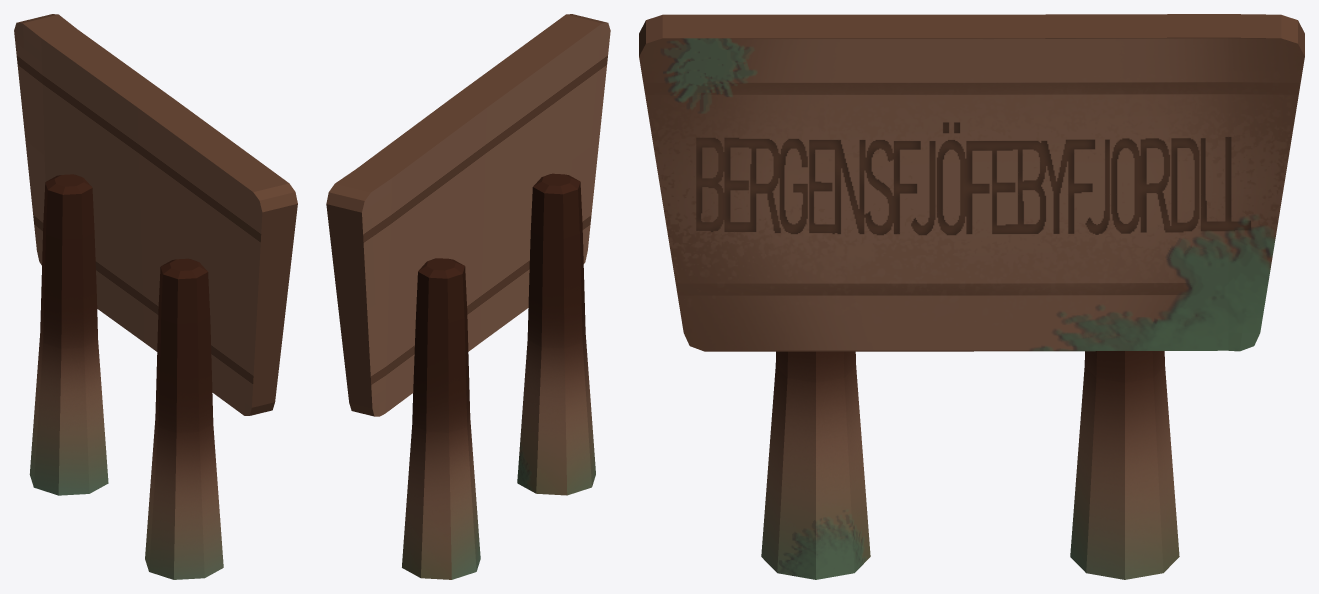
Rendered from Sign.fbx.
The picture shows the model from 3 angles, left to right: view 1: azimuth 30°, elevation 25°; view 2: azimuth 150°, elevation 25°; view 3: azimuth 270°, elevation 25°; orthographic projection. The views are drawn at different scales.
Visible parts, largest first — view 1: Cylinder.004; view 2: Cylinder.004; view 3: Cylinder.004.
Boxes of the visible parts, box(x1,y1,x2,y2) form: Cylinder.004: box(14, 14, 297, 579); Cylinder.004: box(326, 14, 610, 579); Cylinder.004: box(639, 14, 1304, 579).
Bounding box in the file's own units: 57.61 × 271 × 298.
